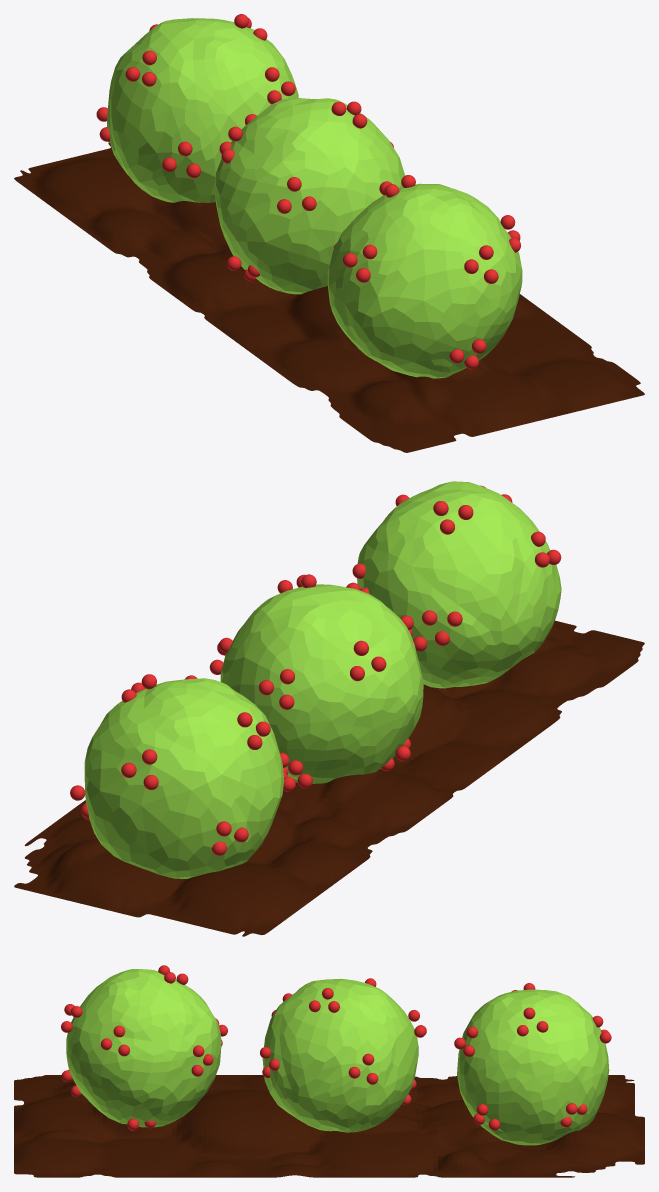
Rendered from FruitBarrier4.fbx.
3 renders of one model, top to bottom at view 1: azimuth 30°, elevation 25°; view 2: azimuth 150°, elevation 25°; view 3: azimuth 270°, elevation 25°, orthographic. The views are drawn at different scales.
Visible parts, largest first — view 1: Plane; view 2: Plane; view 3: Plane.
Part boxes in pixels (x1,y1,x2,y2): Plane: [14, 14, 644, 452]; Plane: [14, 481, 644, 936]; Plane: [14, 965, 644, 1177].
Bounding box in the file's own units: 10.3 × 7.32 × 26.72.
